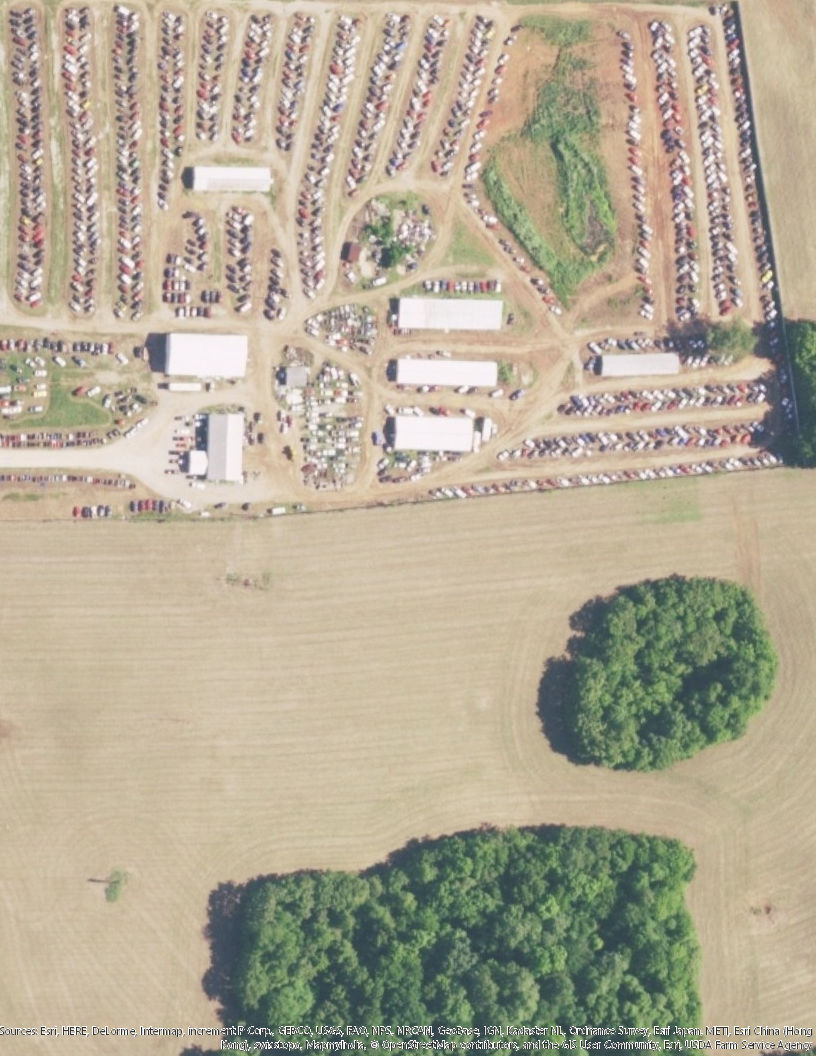cafo: (155, 326, 259, 388), (390, 290, 520, 337), (381, 359, 511, 397), (389, 411, 483, 453), (187, 164, 288, 198), (596, 348, 691, 378)
